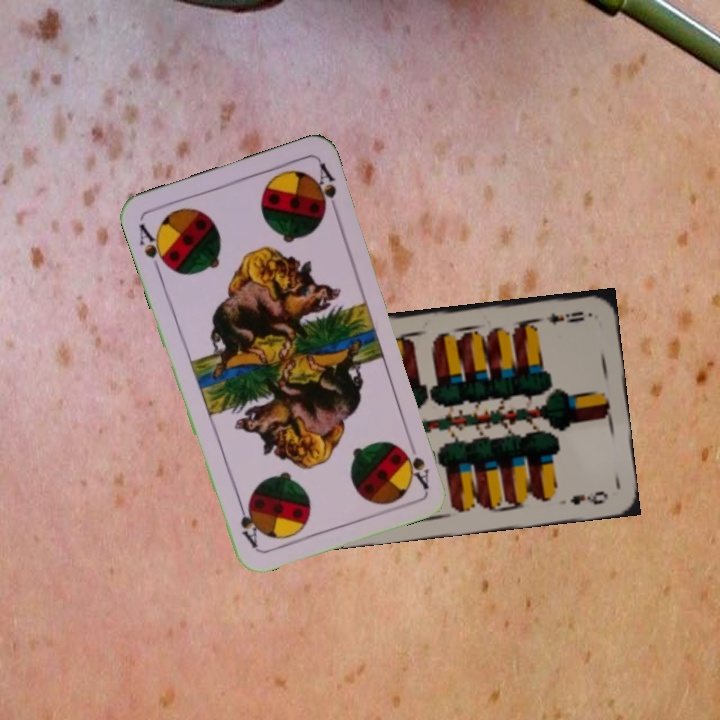E9: (542, 307, 587, 328)
SA: (135, 219, 172, 275), (401, 446, 432, 491)
